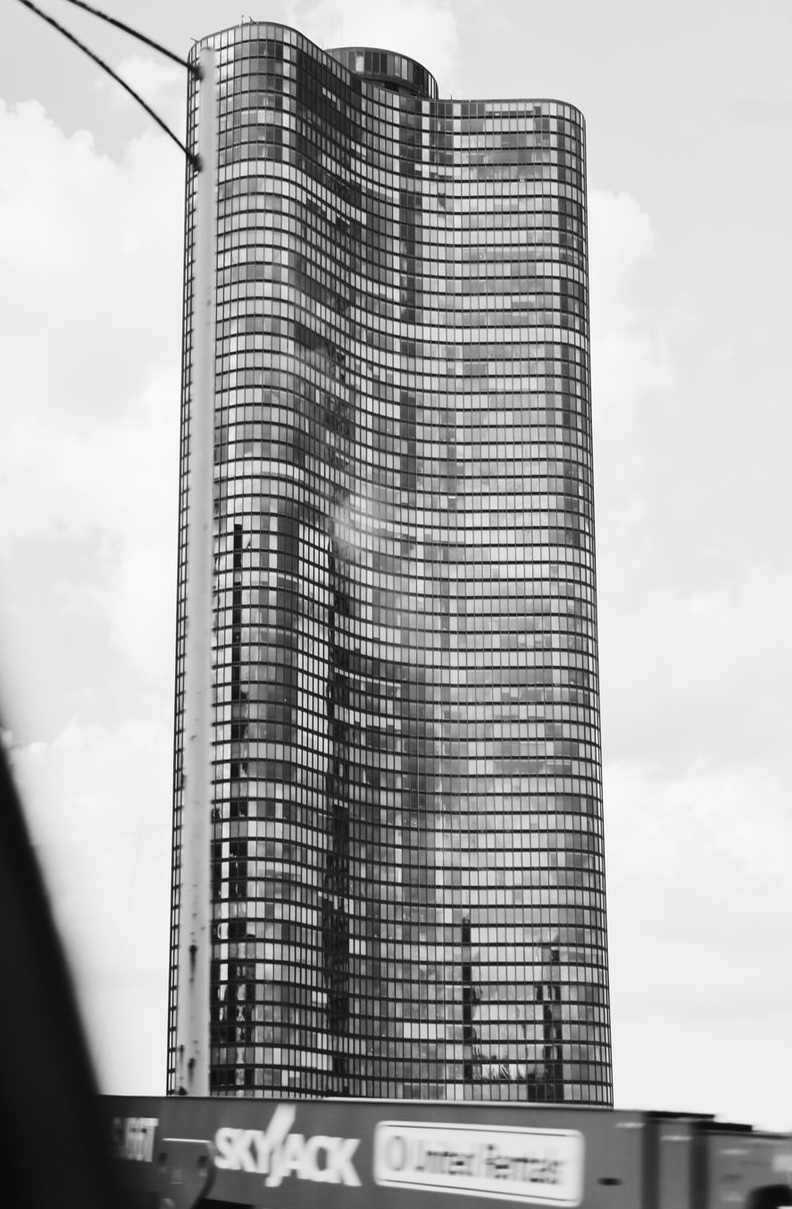Sky Building: (162, 20, 622, 1115)
